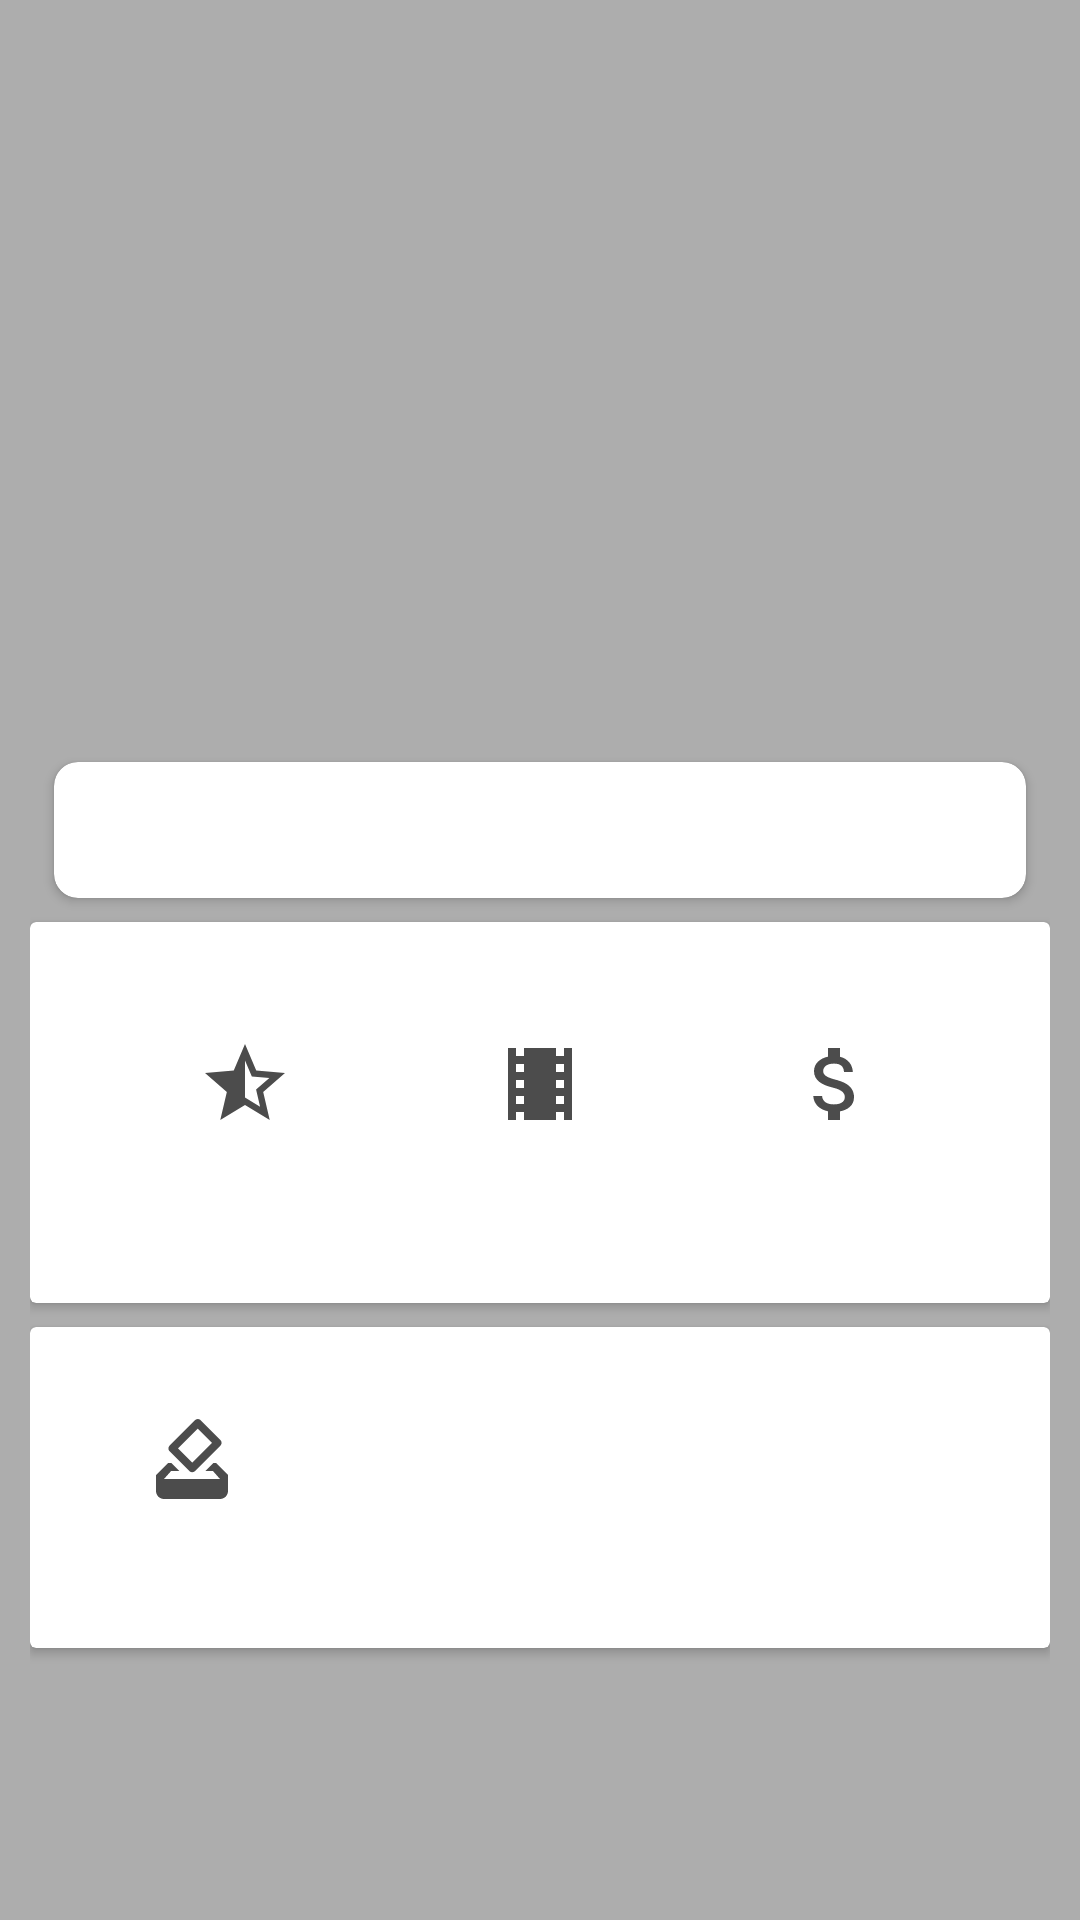

Icons on this 1080px x 1920px Android screen, each with its box as bbox(x1, y1, x2, y2):
average count: bbox(205, 1044, 285, 1120)
revenu: bbox(813, 1048, 854, 1120)
runtime: bbox(508, 1048, 572, 1120)
